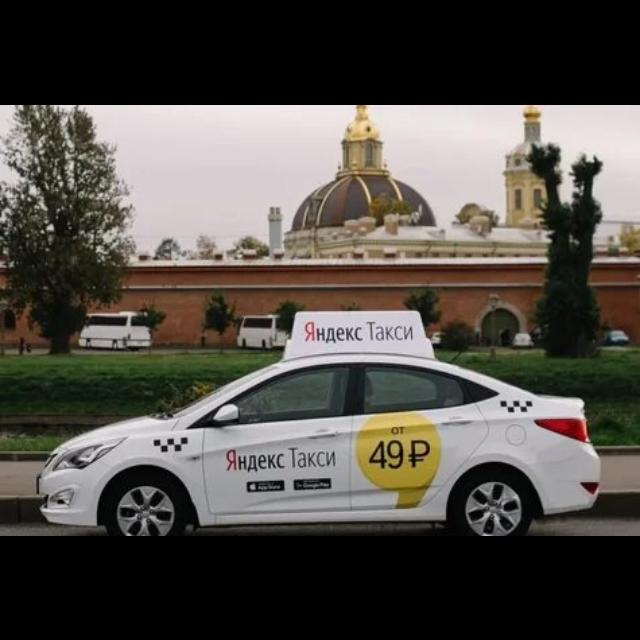taxi: (37, 309, 604, 535)
